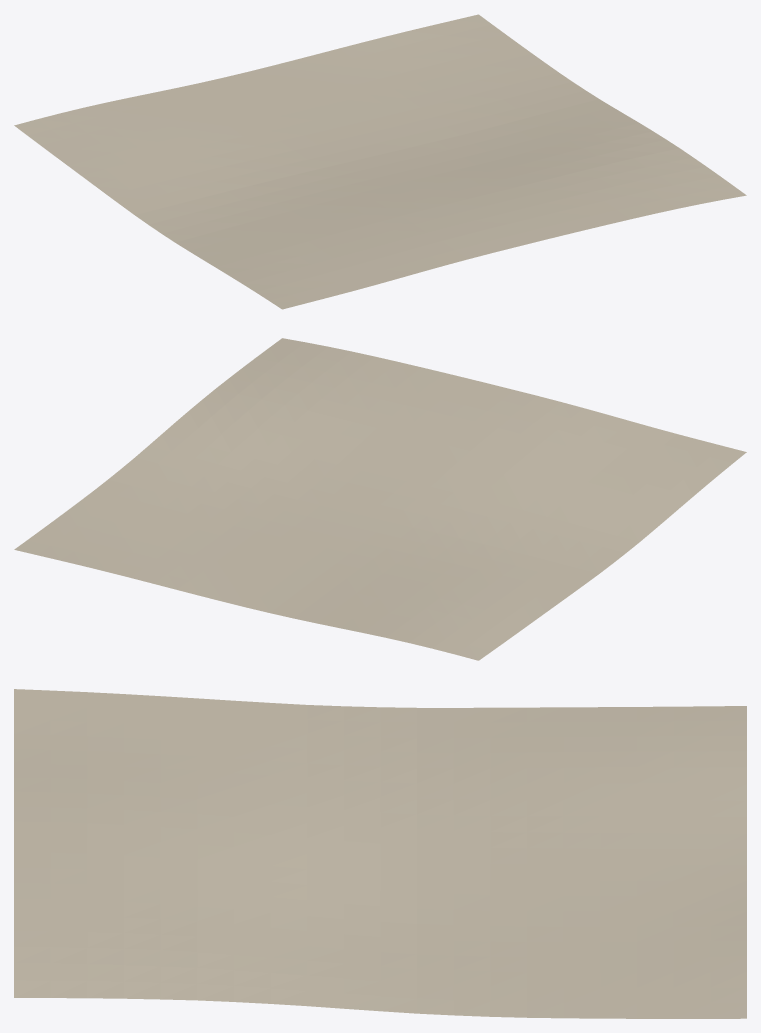
The model's file is bolak_-15_8.glb.
3 renders of one model, top to bottom at view 1: azimuth 30°, elevation 25°; view 2: azimuth 150°, elevation 25°; view 3: azimuth 270°, elevation 25°, orthographic. The views are drawn at different scales.
Visible parts, largest first — view 1: Yer_Tuproq-col; view 2: Yer_Tuproq-col; view 3: Yer_Tuproq-col.
Boxes of the visible parts, bbox=[...] form: Yer_Tuproq-col: bbox=[14, 14, 746, 309]; Yer_Tuproq-col: bbox=[14, 338, 746, 660]; Yer_Tuproq-col: bbox=[14, 689, 746, 1018].
Bounding box in the file's own units: 400 × 17.51 × 400.
